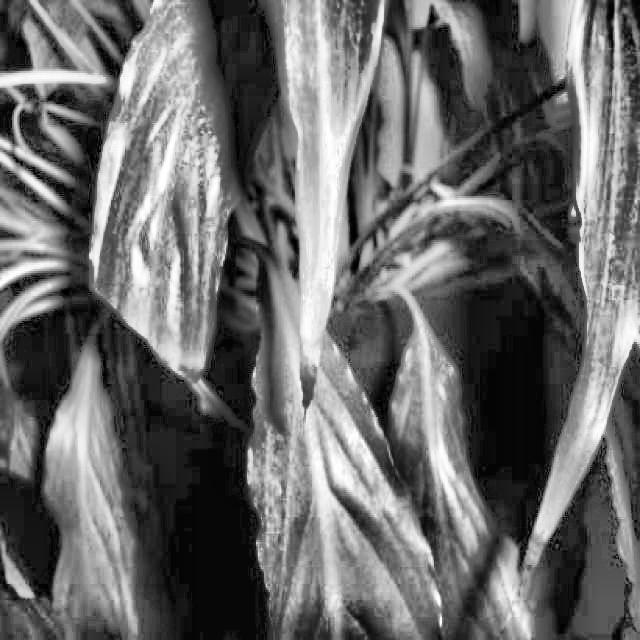plants: (16, 2, 638, 638), (498, 427, 612, 638), (256, 206, 366, 402)
